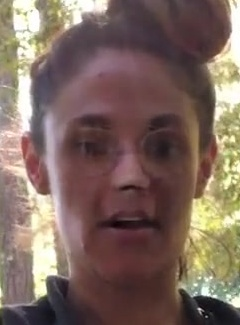n_f: (108, 142, 157, 196)
